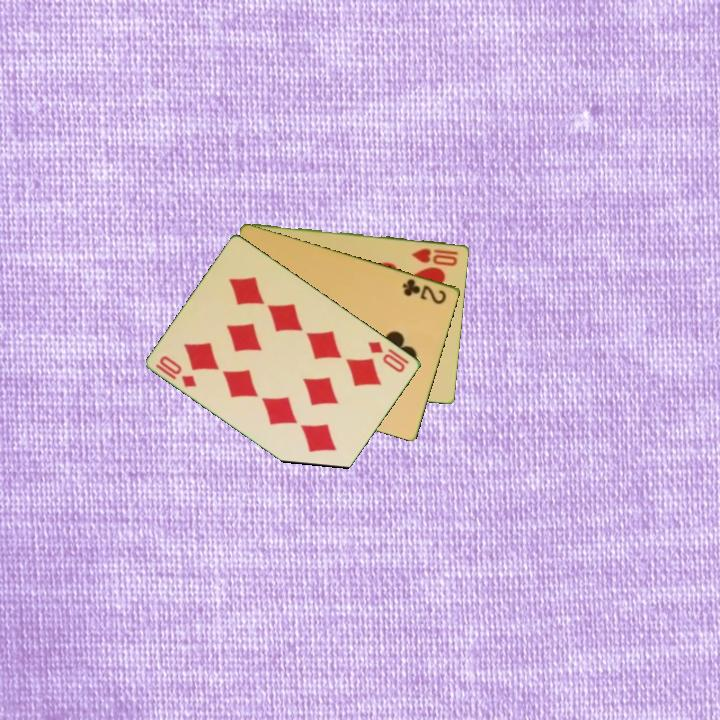10d: (152, 352, 200, 390), (365, 337, 409, 375)
10h: (409, 244, 461, 268)
2c: (399, 275, 450, 307)
